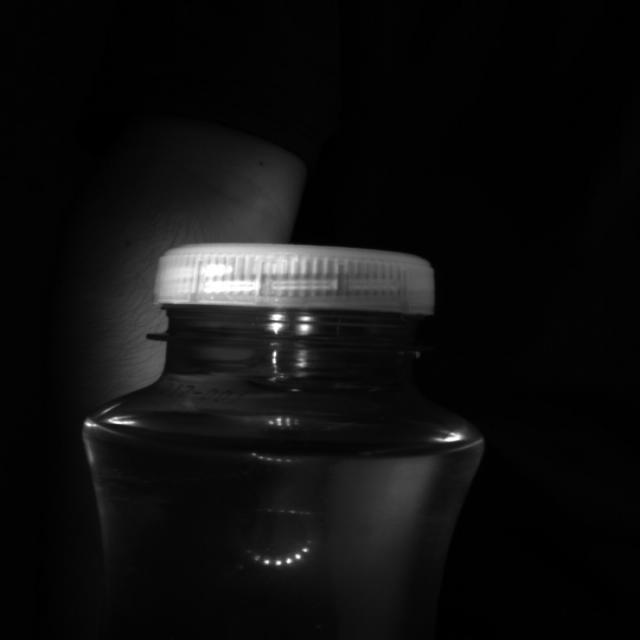Not Good: (145, 243, 439, 354)
